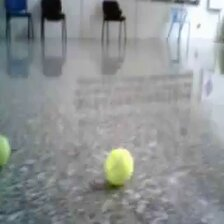tennis: (103, 147, 133, 185), (1, 135, 13, 168)
